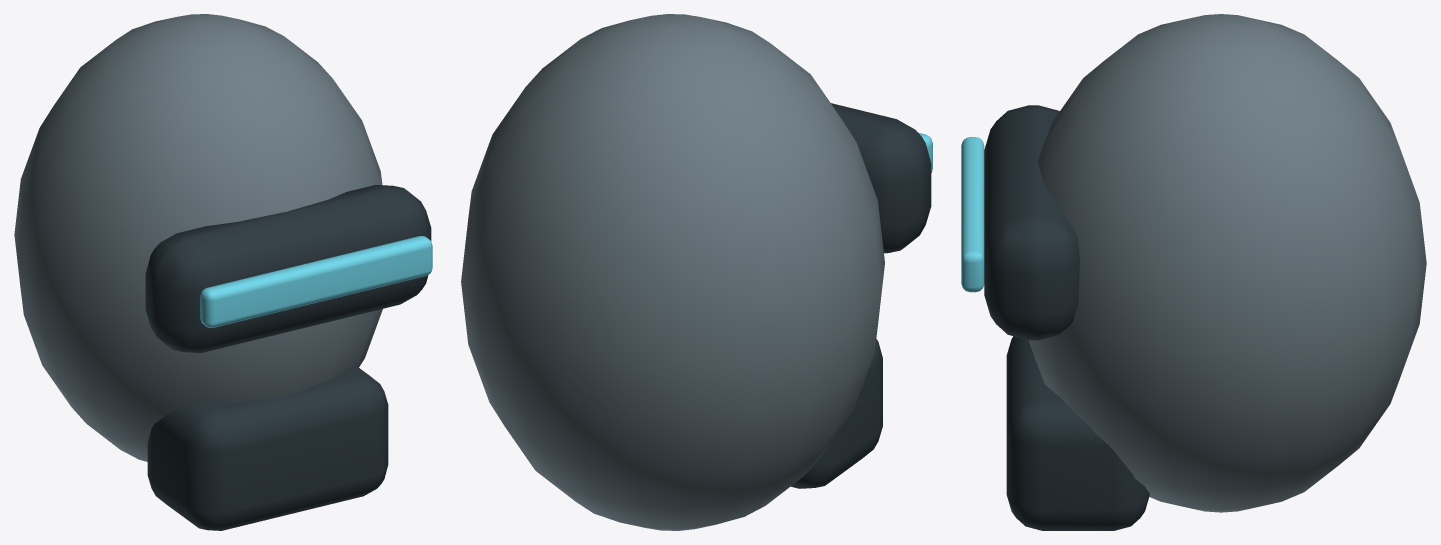
Rendered from courier_head.fbx.
3 views of the same model, side by side, from view 1: azimuth 30°, elevation 25°; view 2: azimuth 150°, elevation 25°; view 3: azimuth 270°, elevation 25° (orthographic). The views are drawn at different scales.
Visible parts, largest first — view 1: courier_head; view 2: courier_head; view 3: courier_head.
Boxes of the visible parts, bbox=[...] form: courier_head: bbox=[14, 14, 432, 530]; courier_head: bbox=[461, 14, 932, 530]; courier_head: bbox=[961, 14, 1426, 530].
Bounding box in the file's own units: 23 × 26.05 × 29.
